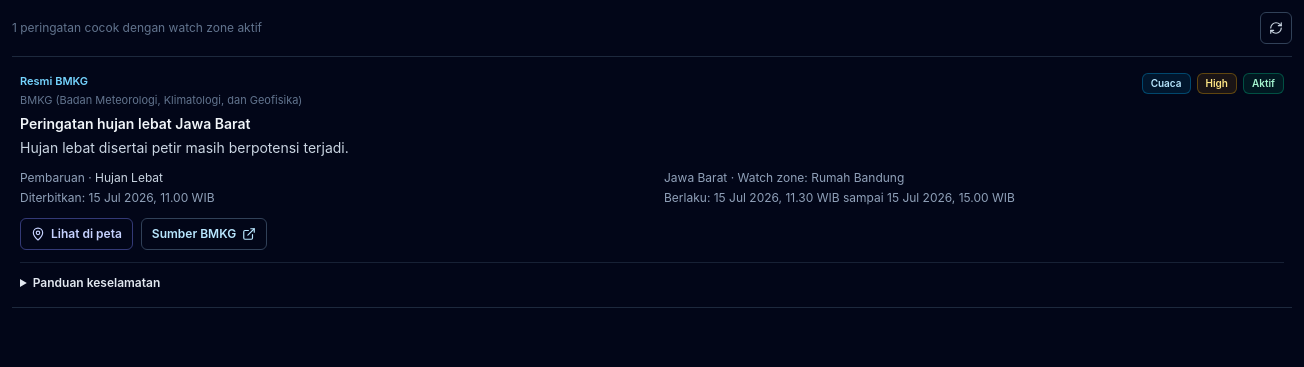
Scenario: ActiveWarningsTab › retains cached warnings and marks them uncertain when a refresh fails
Expected: the heading "Peringatan hujan lebat Jawa Barat" is shown, [20,115,250,132]
Click the button named "Perbarui peringatan aktif" at (1276, 28), box [1260,12,1292,44]
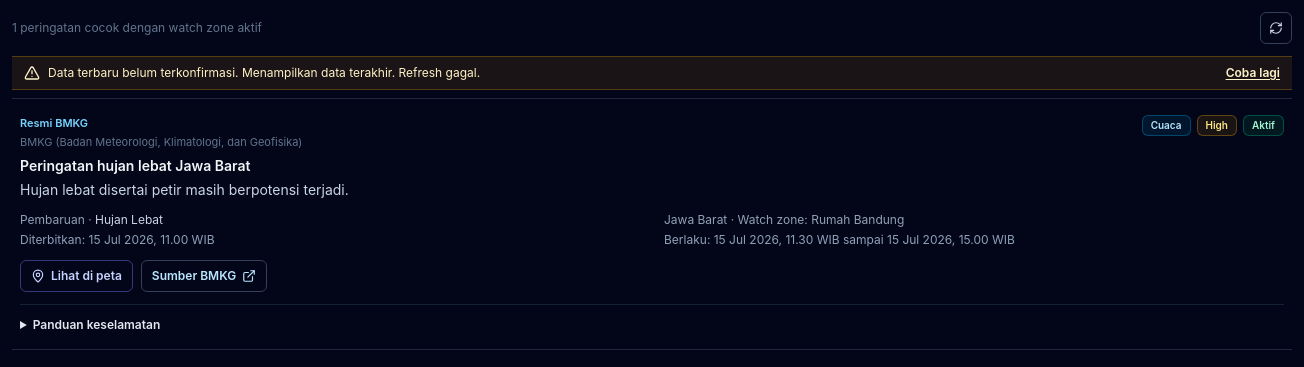
Expected: the heading "Peringatan hujan lebat Jawa Barat" is shown, [20,157,250,174]
Expected: the text "Data terbaru belum terkonfirmasi" is shown, [48,65,398,80]
Expected: the button "Coba lagi" is shown, [1226,65,1280,81]
